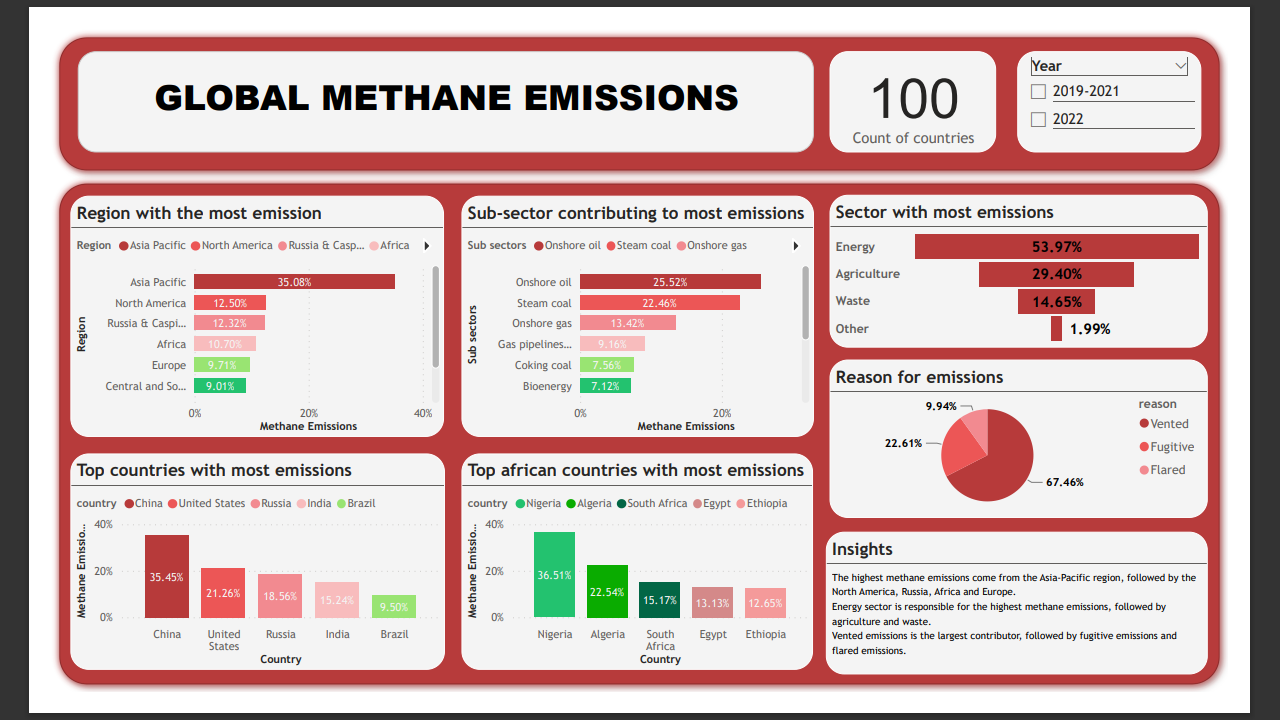

This screenshot's page, from the dashboard's own definition file:
{"tool":"powerbi","page":{"name":"Page 1","canvas":[1280,720],"ordinal":0},"visuals":[{"type":"shape","box":[0,159.2,1278.5,561.1],"z":0},{"type":"shape","box":[0,0,1278.5,162.3],"z":1000},{"type":"barChart","title":"Region with the most emission","fields":{"Category":["Methane_final.region"],"Y":["Sum(Methane_final.emissions)"],"Series":["Methane_final.region"]},"box":[21.4,181.4,405.7,261.4],"z":2000},{"type":"columnChart","title":"Top countries with most emissions","fields":{"Category":["Methane_final.country"],"Y":["Sum(Methane_final.emissions)"],"Series":["Methane_final.country"]},"box":[21.2,461,406.4,235.1],"z":3000},{"type":"funnel","title":"Sector with most emissions","fields":{"Category":["Methane_final.type"],"Y":["Sum(Methane_final.emissions)"]},"box":[845.7,180,411.4,165.7],"z":4000},{"type":"barChart","title":"Sub-sector contributing to most emissions","fields":{"Category":["Methane_final.segment"],"Y":["Sum(Methane_final.emissions)"],"Series":["Methane_final.segment"]},"box":[445.7,181.4,382.9,261.4],"z":5000},{"type":"pieChart","title":"Reason for emissions","fields":{"Category":["Methane_final.reason"],"Y":["Sum(Methane_final.emissions)"]},"box":[845.7,358.6,411.4,172.9],"z":6000},{"type":"textbox","box":[28.6,24.3,800,110],"z":7000},{"type":"columnChart","title":"Top african countries with most emissions","fields":{"Category":["Methane_final.country"],"Y":["Sum(Methane_final.emissions)"],"Series":["Methane_final.country"]},"box":[445.9,461,382.2,235.1],"z":8000},{"type":"textbox","title":"Insights","box":[841.7,546,415.5,154.7],"z":9000},{"type":"card","fields":{"Values":["Count(Methane_final.country)"]},"box":[845.7,24.3,181.4,110],"z":10000},{"type":"slicer","fields":{"Values":["Methane_final.Year"]},"box":[1050,24.3,200,110],"z":11000}]}

Visuals, with their boxes in screenshot pixels (x1, y1, x2, y2), scaled from the page's 1280x720 canvas onto the 1280x720 screenshot:
shape: detection(0, 159, 1278, 719)
shape: detection(0, 0, 1278, 162)
"Region with the most emission" barChart: detection(21, 181, 427, 443)
"Top countries with most emissions" columnChart: detection(21, 461, 428, 696)
"Sector with most emissions" funnel: detection(846, 180, 1257, 346)
"Sub-sector contributing to most emissions" barChart: detection(446, 181, 829, 443)
"Reason for emissions" pieChart: detection(846, 359, 1257, 532)
textbox: detection(29, 24, 829, 134)
"Top african countries with most emissions" columnChart: detection(446, 461, 828, 696)
"Insights" textbox: detection(842, 546, 1257, 701)
card - Count(Methane_final.country): detection(846, 24, 1027, 134)
slicer - Methane_final.Year: detection(1050, 24, 1250, 134)
